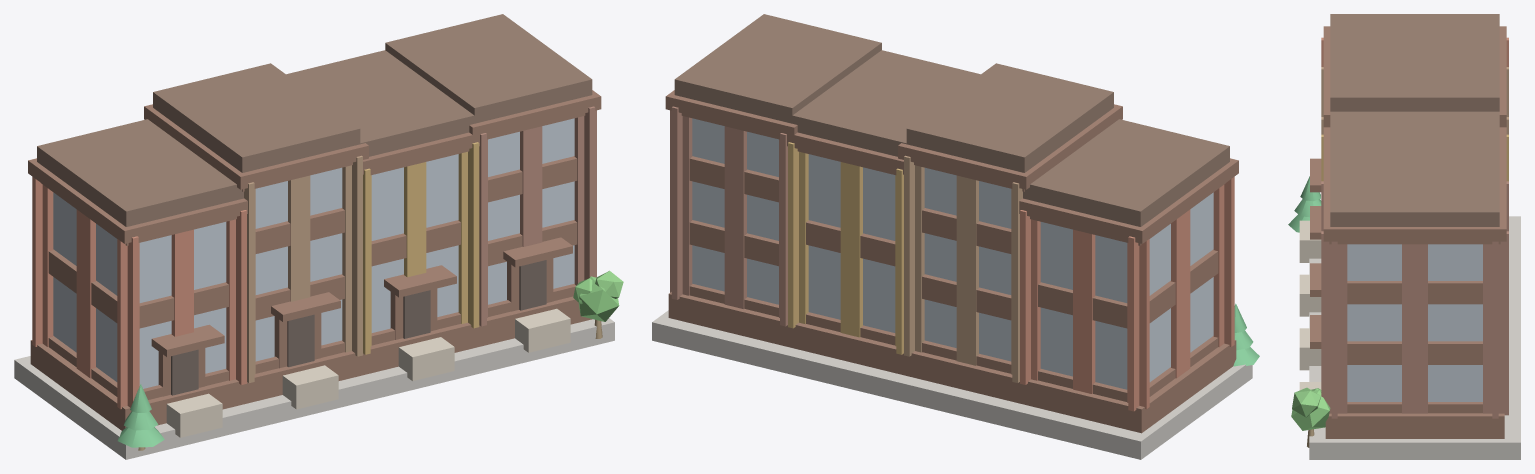
The model's file is num-2-built.glb.
The picture shows the model from 3 angles, left to right: view 1: azimuth 30°, elevation 25°; view 2: azimuth 150°, elevation 25°; view 3: azimuth 270°, elevation 25°; orthographic projection. The views are drawn at different scales.
Size of the model in its own units: 28.32 by 14.3 by 12.1.
